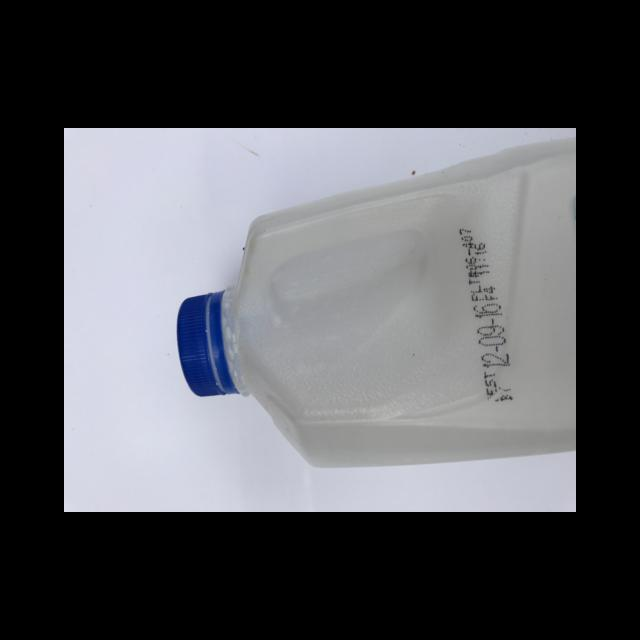plastic: (176, 135, 575, 467), (175, 289, 238, 397)
